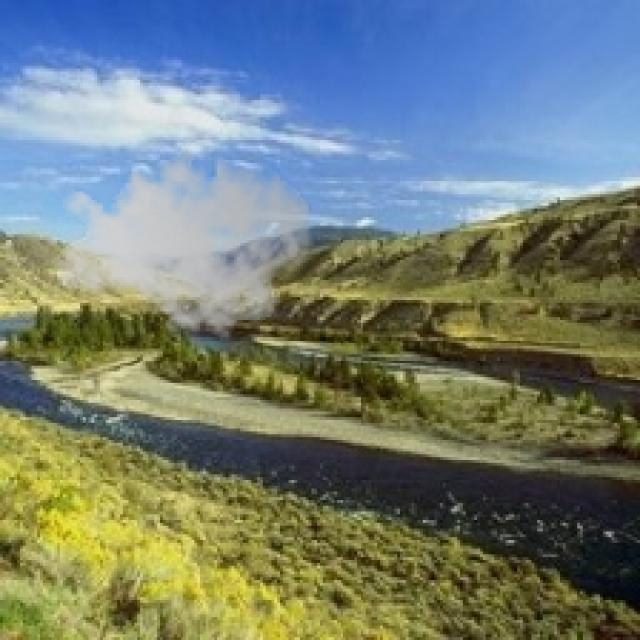smoke: (52, 134, 314, 346)
